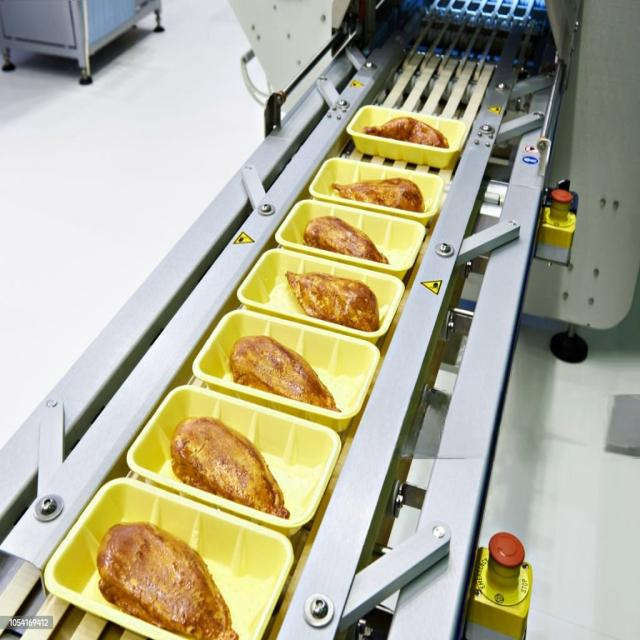food: (95, 517, 241, 640), (162, 414, 298, 526), (225, 326, 348, 424), (277, 260, 387, 336), (295, 204, 393, 272)
